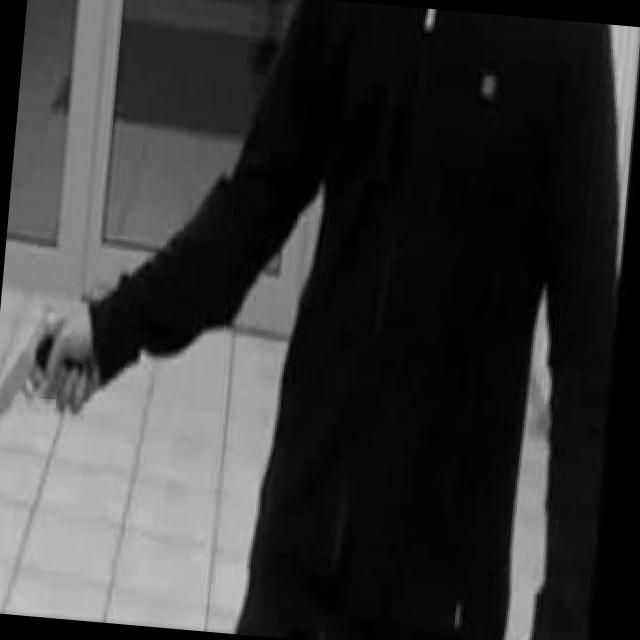Guns: (0, 282, 109, 449)
